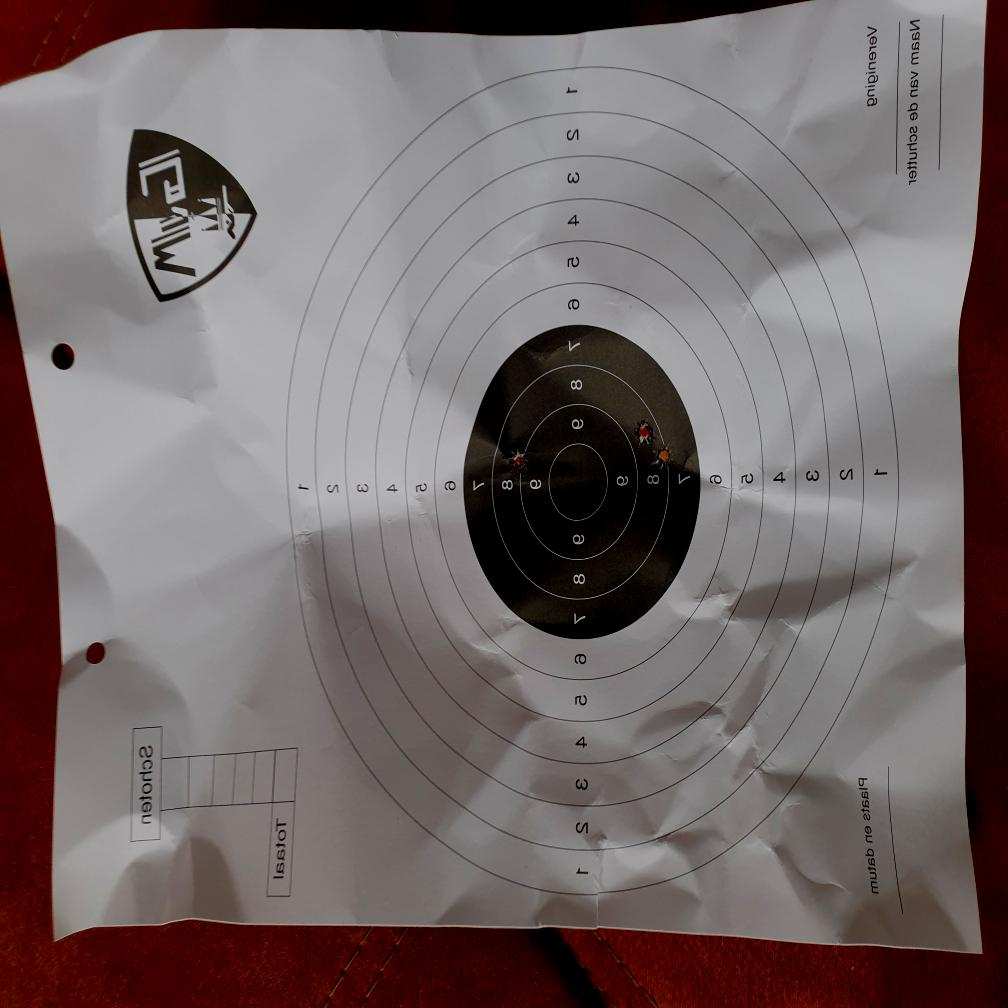8: (634, 420, 655, 448), (652, 445, 674, 471)
9: (507, 448, 529, 475)
Target: (285, 64, 898, 899)
black_contour: (462, 326, 700, 640)
